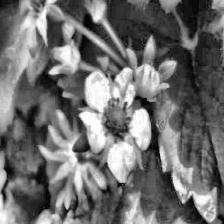Blossom Blight: (99, 94, 134, 146)
